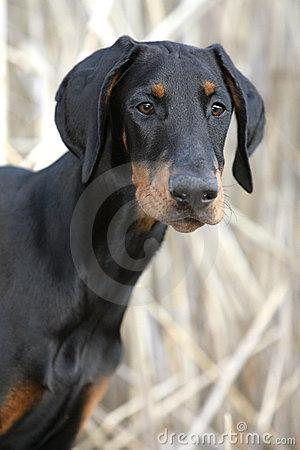dog: (1, 33, 269, 420)
